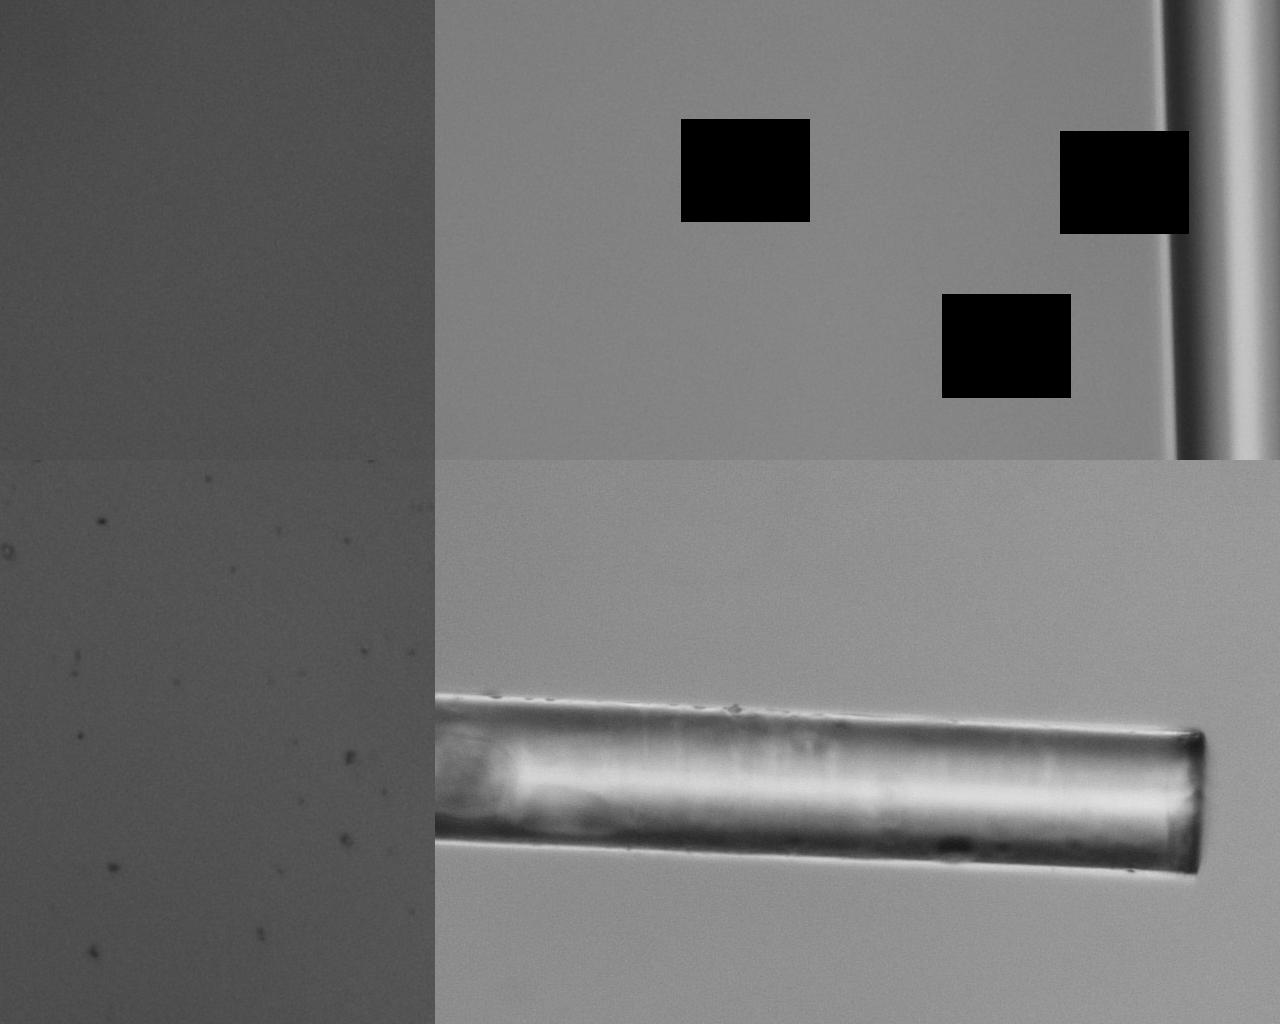fiber: (0, 67, 1280, 912)
